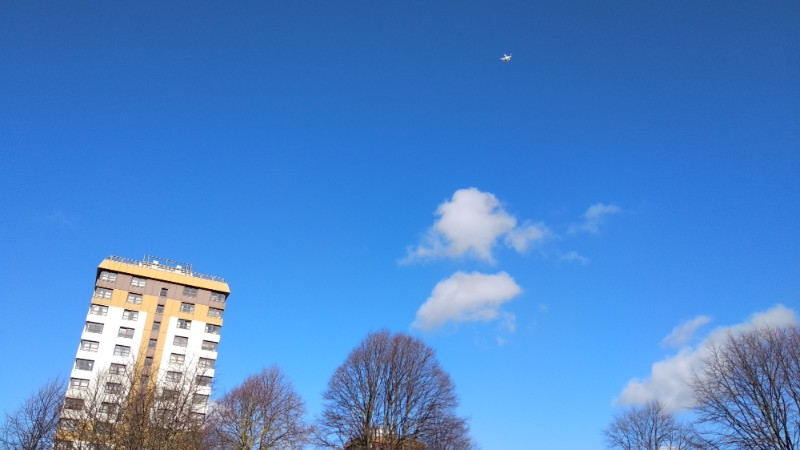drone: (499, 52, 513, 63)
